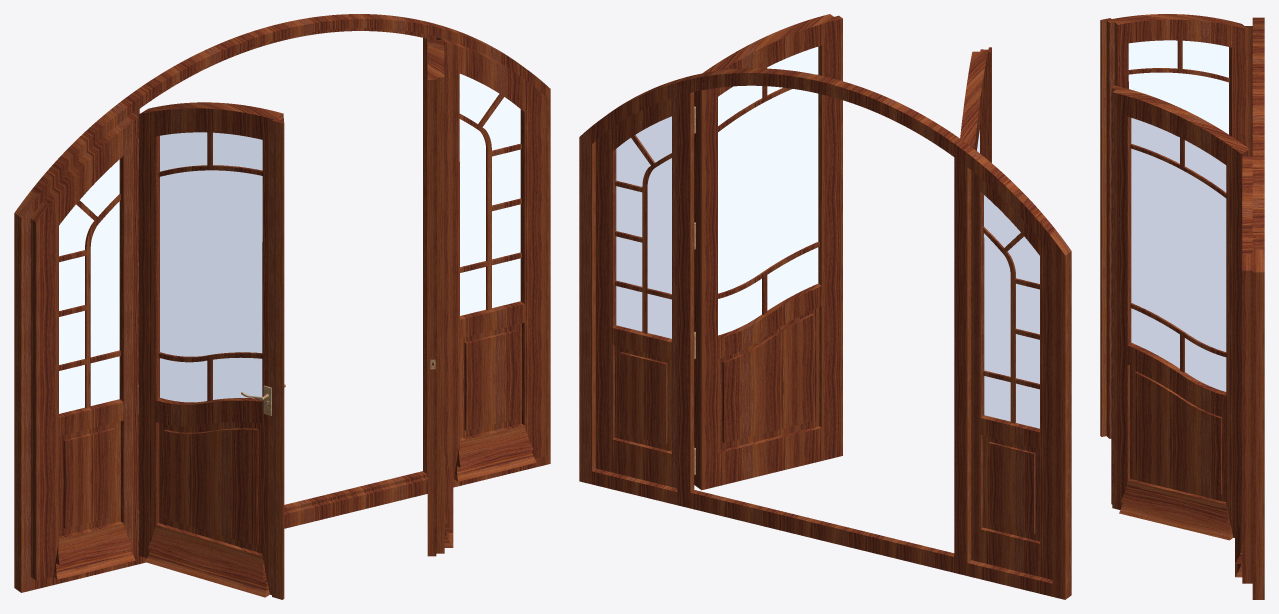
The model's file is door.glb.
3 views of the same model, side by side, from view 1: azimuth 30°, elevation 25°; view 2: azimuth 150°, elevation 25°; view 3: azimuth 270°, elevation 25° (orthographic). The views are drawn at different scales.
Visible parts, largest first — view 1: Door N201119; view 2: Door N201119; view 3: Door N201119.
Boxes of the visible parts, bbox=[...] form: Door N201119: bbox=[14, 14, 550, 599]; Door N201119: bbox=[579, 14, 1071, 599]; Door N201119: bbox=[1100, 14, 1264, 599].
Bounding box in the file's own units: 446 × 402 × 137.
3 materials, 2 textured.
